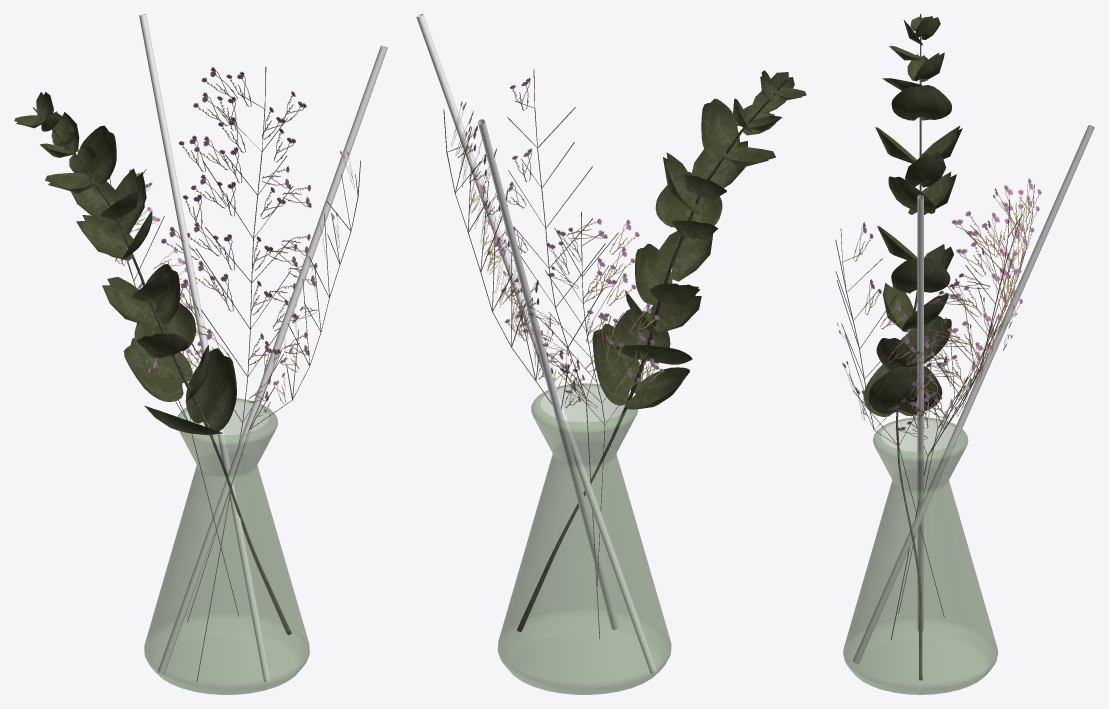
Rendered from MEGA_PACK_decor__defuser_Green.glb.
The picture shows the model from 3 angles, left to right: view 1: azimuth 30°, elevation 25°; view 2: azimuth 150°, elevation 25°; view 3: azimuth 270°, elevation 25°; orthographic projection. The views are drawn at different scales.
Visible parts, largest first — view 1: defuser_Green; view 2: defuser_Green; view 3: defuser_Green.
Boxes of the visible parts, <box> form: defuser_Green: <box>14,14,387,694</box>; defuser_Green: <box>416,14,806,694</box>; defuser_Green: <box>835,14,1094,694</box>.
Bounding box in the file's own units: 0.489 × 0.7689 × 0.3162.
2 materials, 2 textured.
